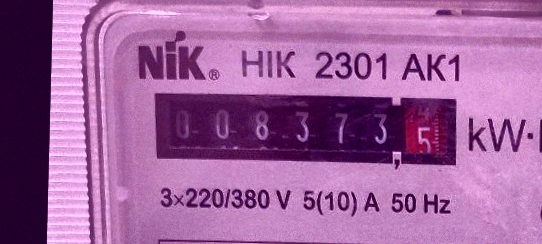0: (171, 105, 192, 142), (211, 105, 231, 142)
3: (368, 109, 391, 147), (290, 107, 312, 145)
4: (414, 102, 432, 123)
5: (414, 123, 434, 154)
7: (330, 107, 349, 147)
8: (250, 106, 272, 143)
screen: (147, 83, 466, 179)
